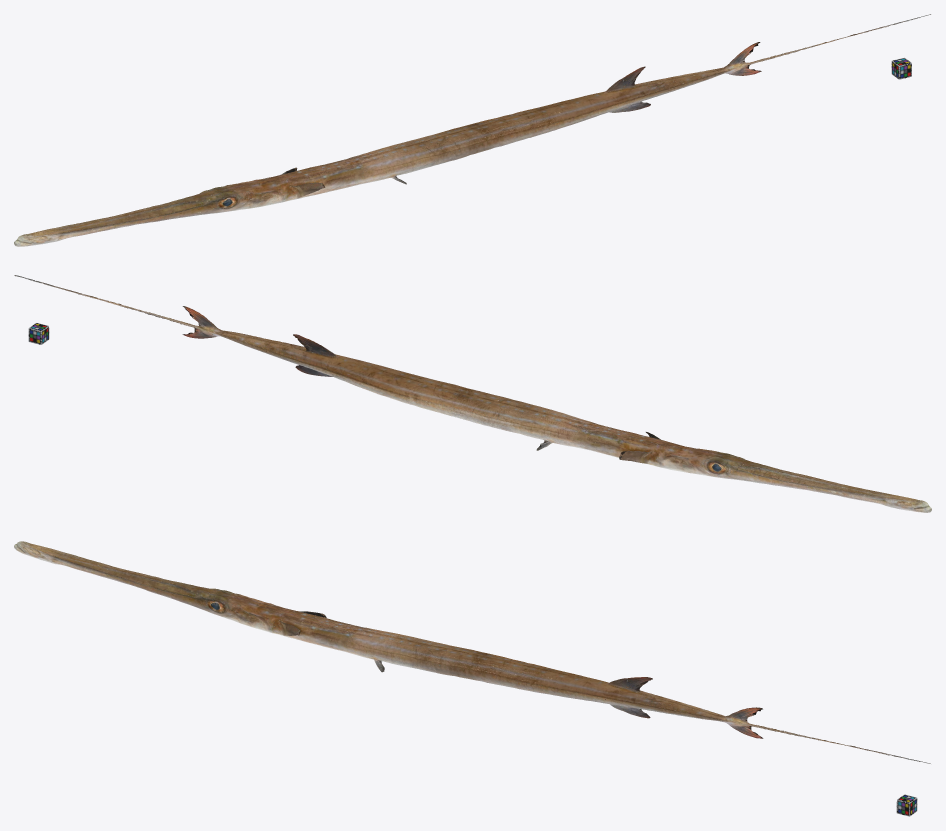
Rendered from scan_cornet_blue.glb.
3 views of the same model, one above another, from view 1: azimuth 30°, elevation 25°; view 2: azimuth 150°, elevation 25°; view 3: azimuth 330°, elevation 25° (orthographic).
Visible parts, largest first — view 1: Object_6; view 2: Object_6; view 3: Object_6.
Part boxes in pixels (x1=…): Object_6: x1=14, y1=14, x2=930, y2=246; Object_6: x1=14, y1=275, x2=931, y2=512; Object_6: x1=14, y1=541, x2=930, y2=763.
Bounding box in the file's own units: 28.97 × 2.13 × 1.54.
2 materials, 2 textured.
